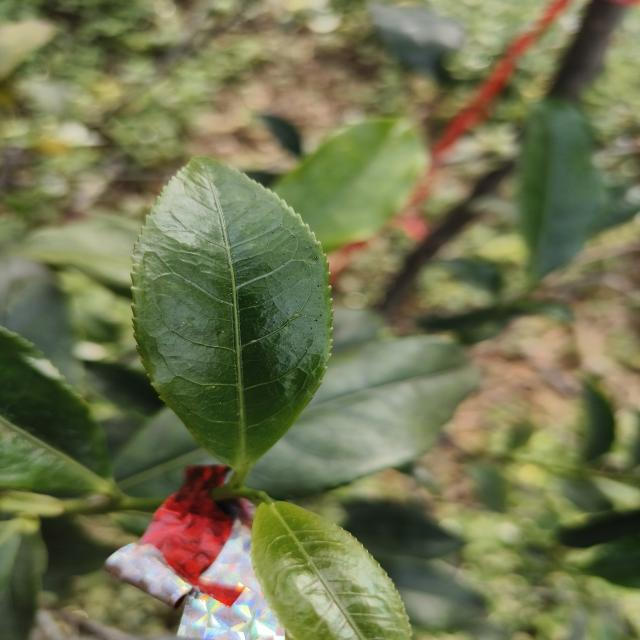Leaf: (132, 157, 331, 476), (246, 336, 479, 499), (251, 502, 411, 640), (272, 119, 426, 252), (0, 327, 116, 497), (518, 100, 605, 280), (22, 214, 141, 292), (114, 409, 213, 497), (379, 558, 485, 629), (343, 501, 463, 563), (369, 3, 464, 80), (0, 516, 47, 640), (583, 381, 615, 463), (467, 460, 506, 512), (558, 477, 612, 512)
